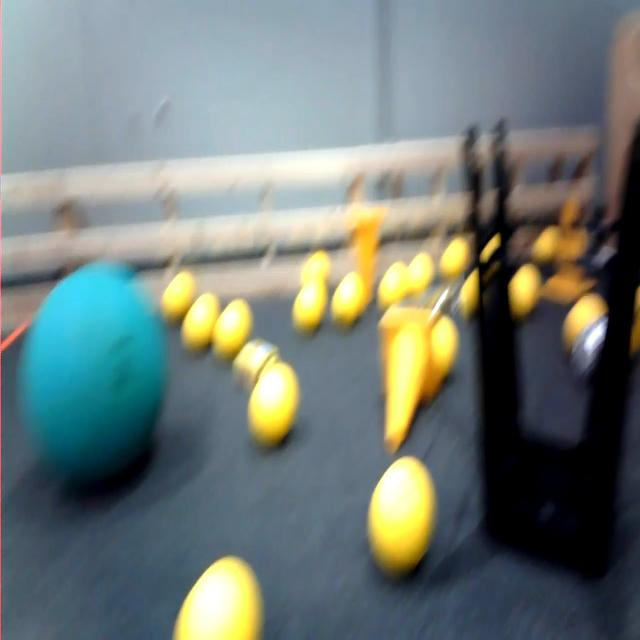fuel: (174, 543, 272, 640), (363, 450, 444, 567), (246, 358, 299, 444), (326, 259, 372, 339), (292, 268, 336, 336), (509, 259, 549, 333), (563, 288, 607, 348), (427, 312, 462, 386), (159, 256, 196, 320), (437, 234, 477, 293), (377, 260, 413, 324), (185, 287, 219, 353), (212, 295, 254, 346), (298, 244, 335, 294), (406, 249, 437, 302)
